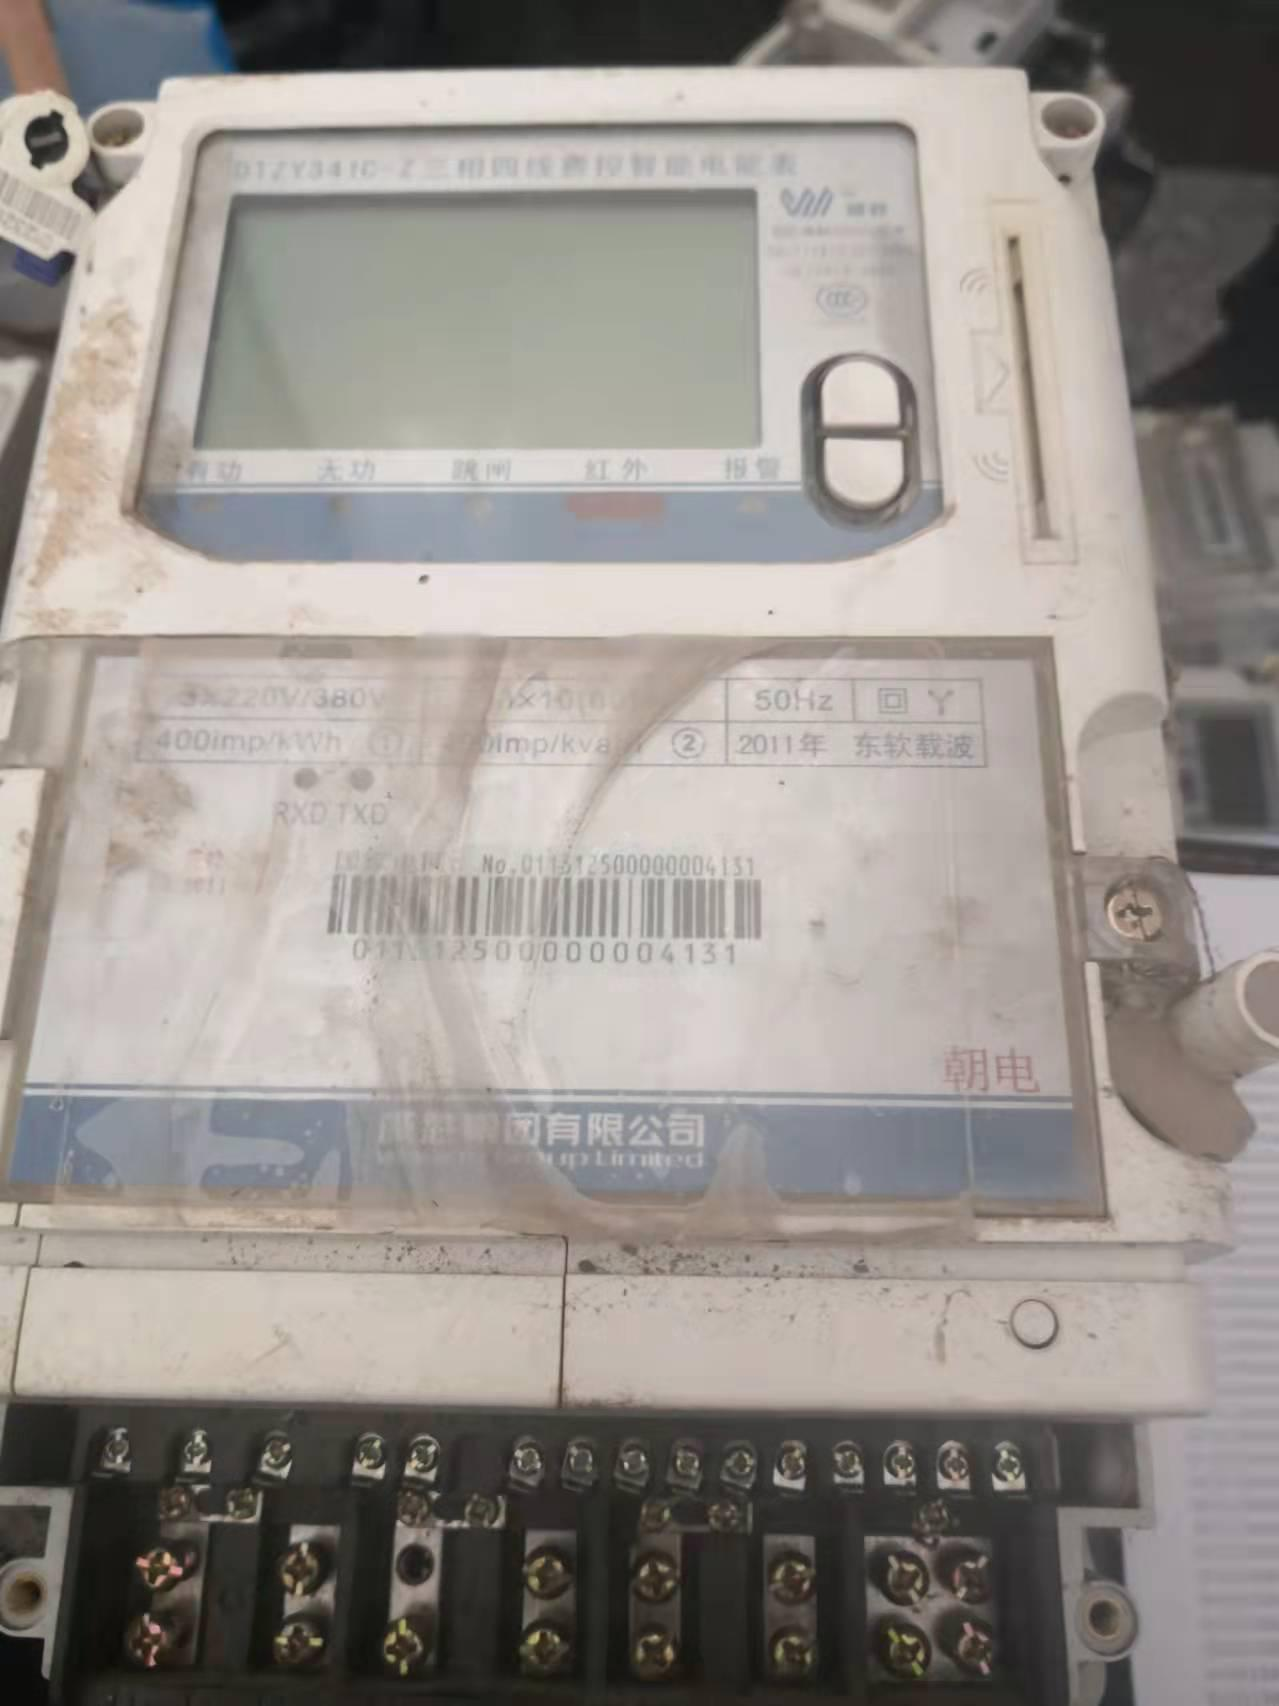digital: (5, 67, 1232, 1236)
